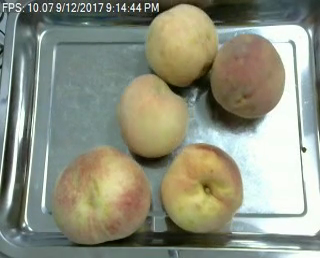Peach: (51, 145, 149, 244), (162, 142, 243, 234), (210, 31, 286, 119), (117, 72, 188, 158), (145, 2, 217, 86)
